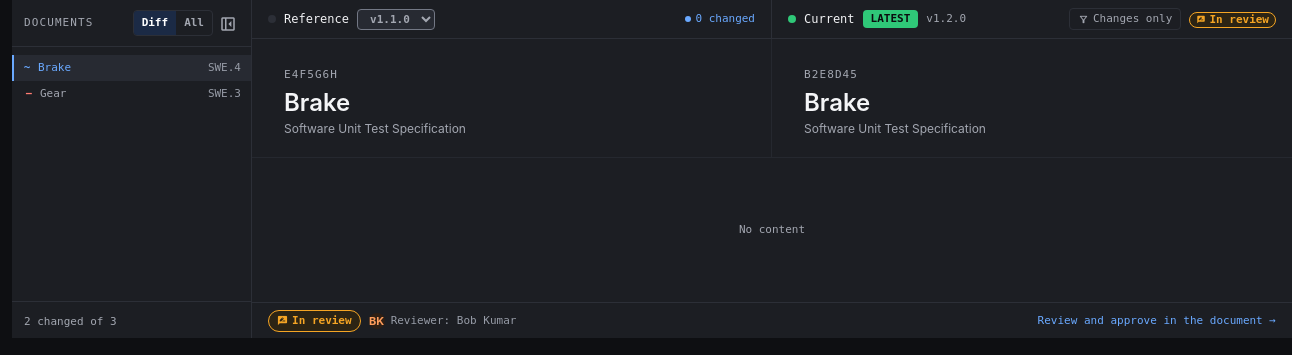
Scenario: ComparePage: a removed document picked, then the page reloaded › the pick writes the reference into the address too
Click the button "− Gear SWE.3".
click(132, 94)  # box left=12, top=81, right=251, bottom=107
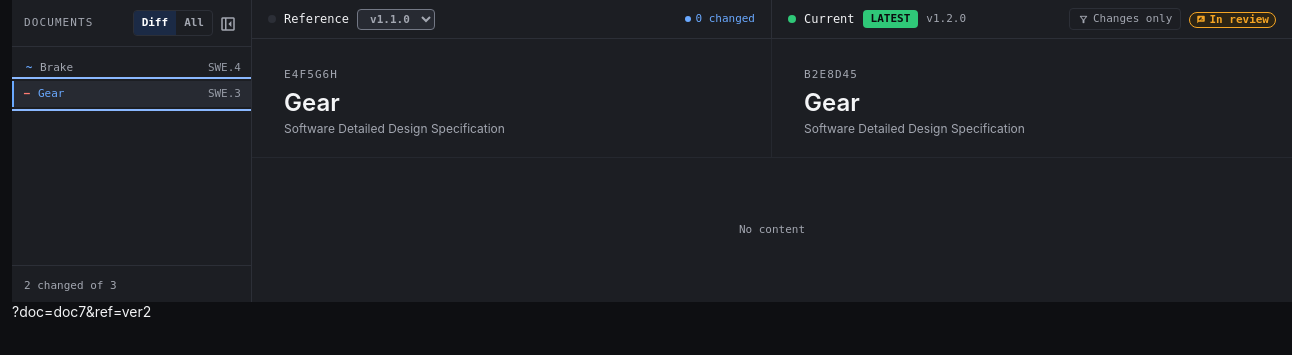
Expected: the text with test id "where" shows "doc=doc7", left=12, top=303, right=151, bottom=320
Expected: the text with test id "where" shows "ref=ver2", left=12, top=303, right=151, bottom=320
